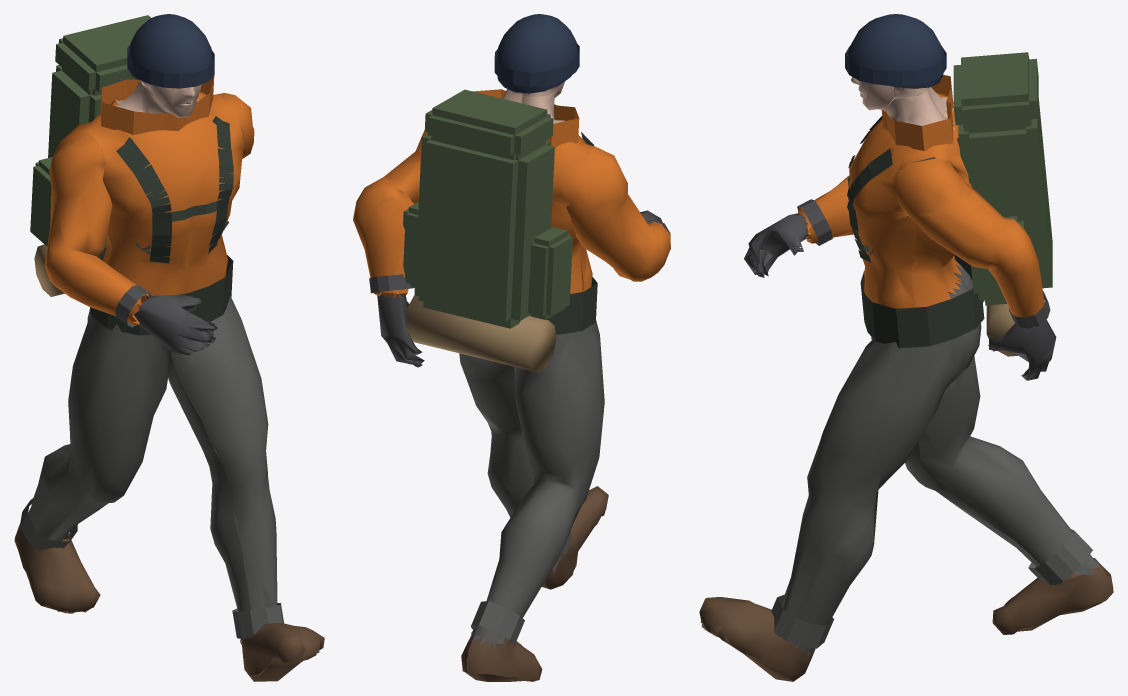
The model's file is hiker-walking.glb.
3 renders of one model, left to right at view 1: azimuth 30°, elevation 25°; view 2: azimuth 150°, elevation 25°; view 3: azimuth 270°, elevation 25°, orthographic. The views are drawn at different scales.
Parts seen in each view (by area): view 1: hiker-walking; view 2: hiker-walking; view 3: hiker-walking.
Boxes of the visible parts, x1,y1,x2,y2 form: hiker-walking: (14,14,324,681); hiker-walking: (353,14,670,681); hiker-walking: (699,14,1113,681).
Bounding box in the file's own units: 0.7284 × 1.73 × 1.01.
